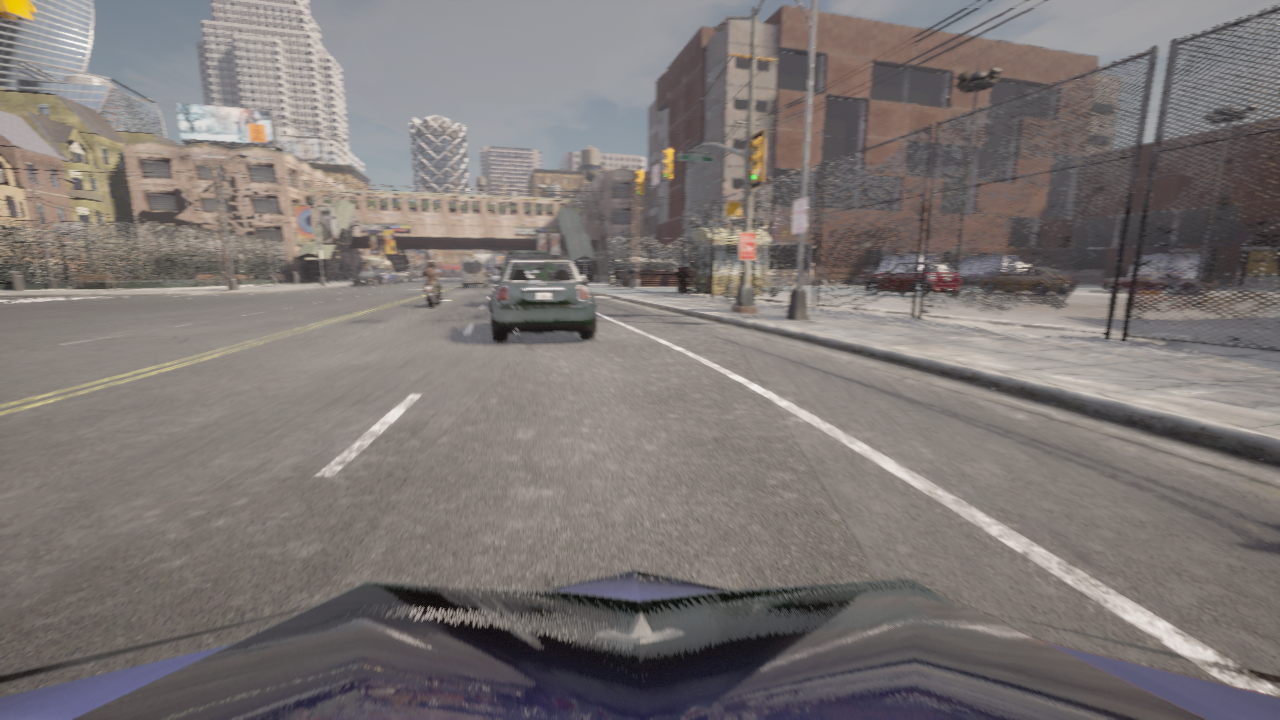cyclist: (0, 569, 1279, 719), (489, 259, 595, 342), (865, 261, 961, 296), (980, 267, 1074, 295), (1100, 272, 1217, 293), (959, 255, 1032, 284), (496, 251, 551, 281), (1128, 254, 1198, 277), (877, 254, 938, 272), (461, 258, 487, 287), (423, 272, 442, 307), (353, 271, 384, 286), (376, 269, 397, 284), (395, 271, 414, 282), (486, 274, 488, 284), (420, 275, 424, 279), (416, 273, 417, 276)
pedestrian: (628, 262, 635, 289)
